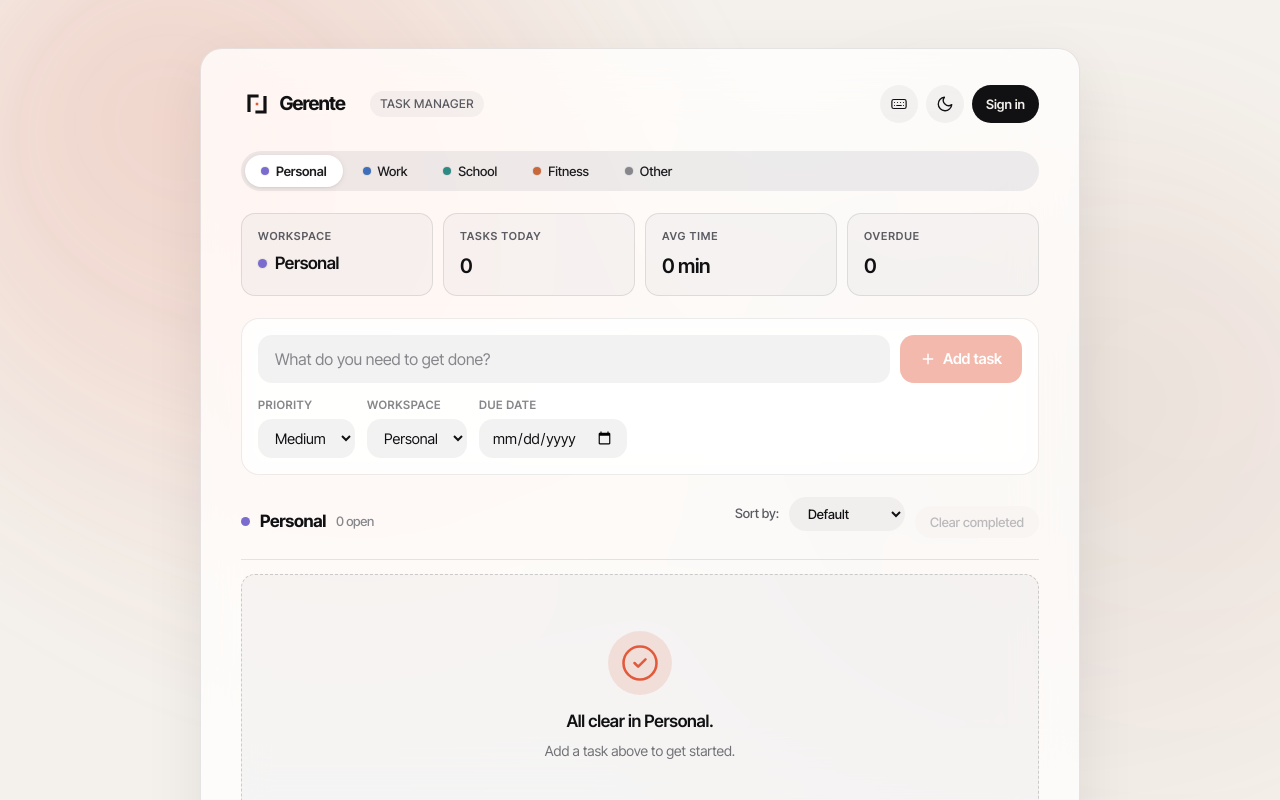
Test: creating tasks › a new task appears in the list
Type "Write the report" into the field named "Task description". click: (574, 358)
box: [258,334,890,382]
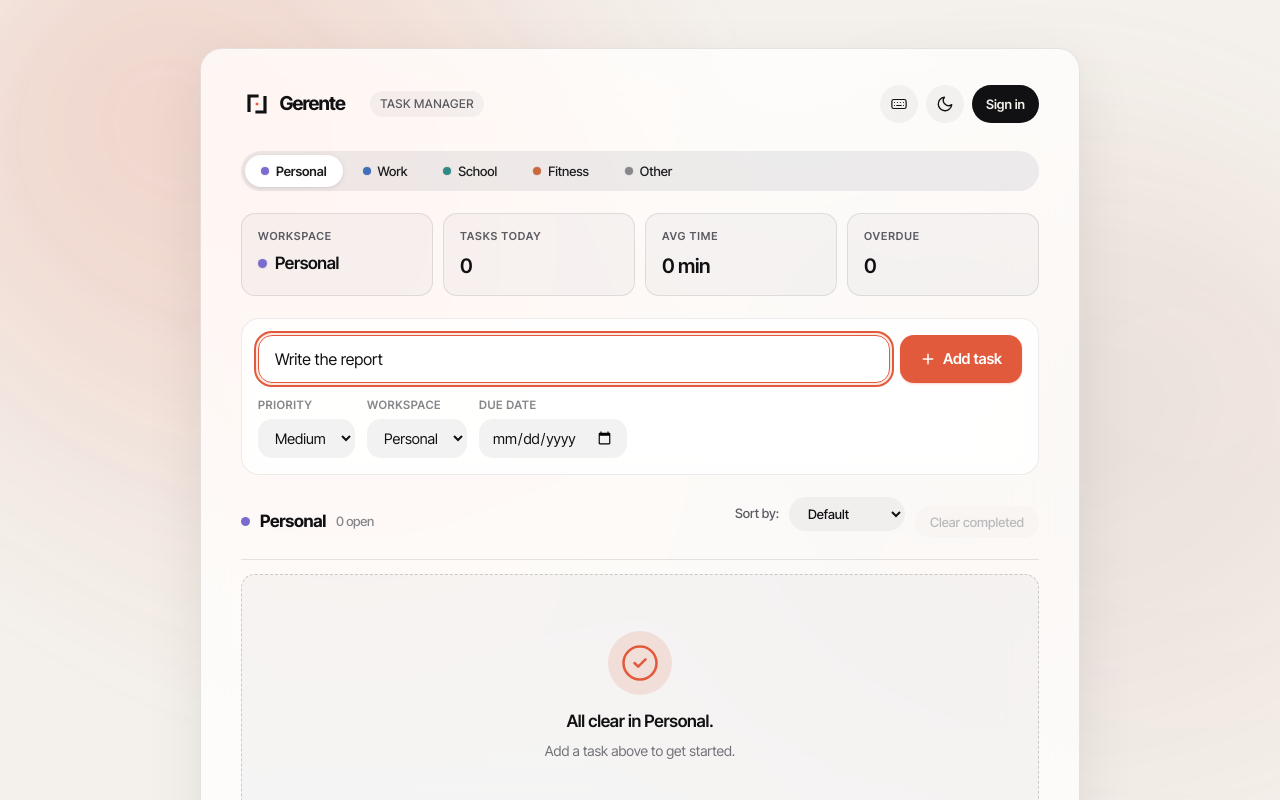
Click the button "Add task". click: (961, 358)
box: [900,334,1022,382]
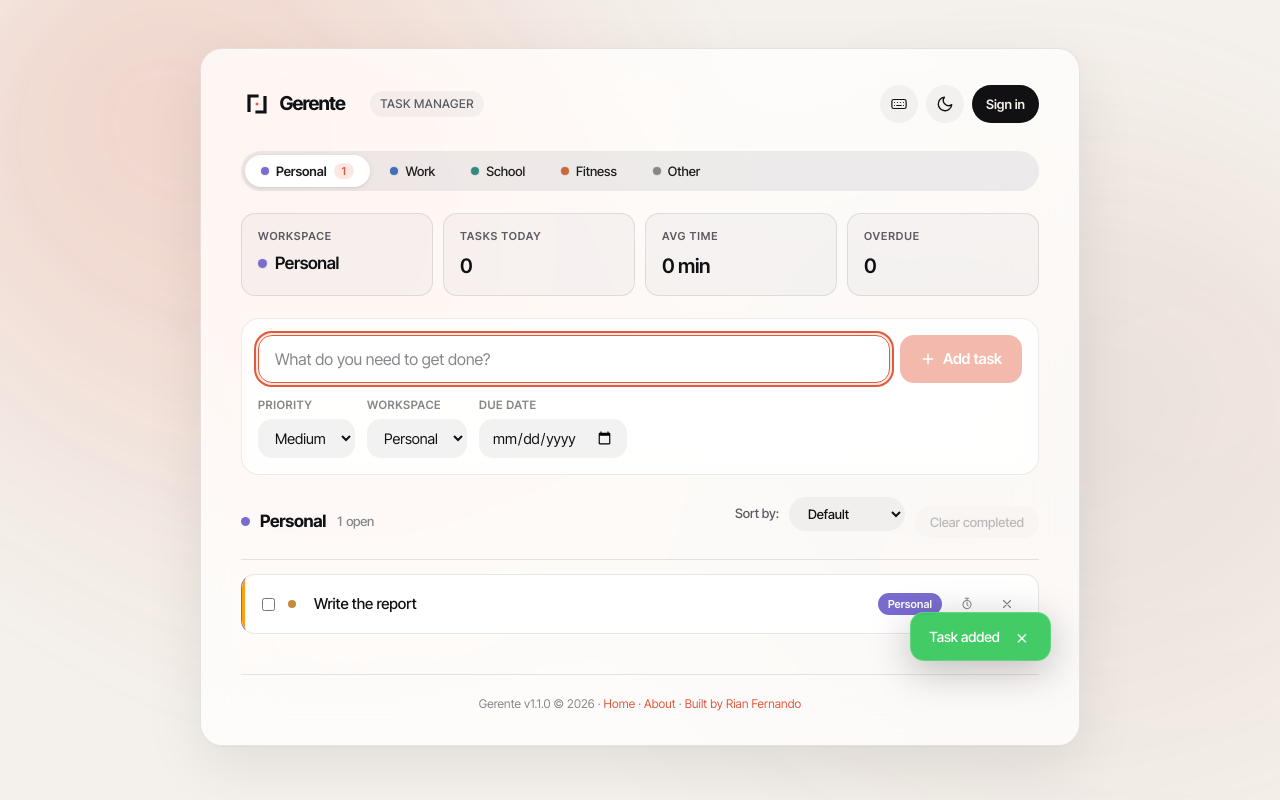
Now the button "Write the report" is shown, box [314,594,416,613]
